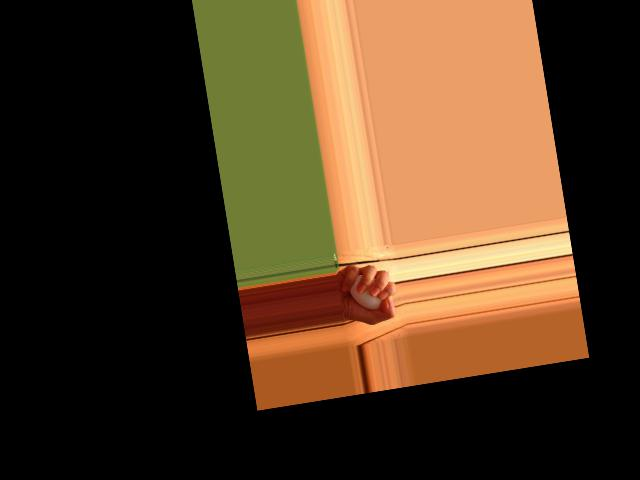egg: (347, 271, 382, 313)
